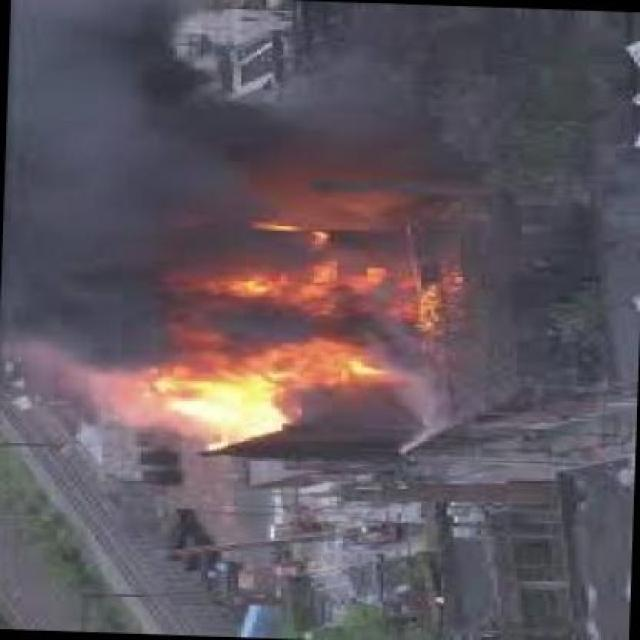Fire: (82, 160, 468, 436)
Smoke: (16, 6, 180, 365), (178, 95, 471, 216)
